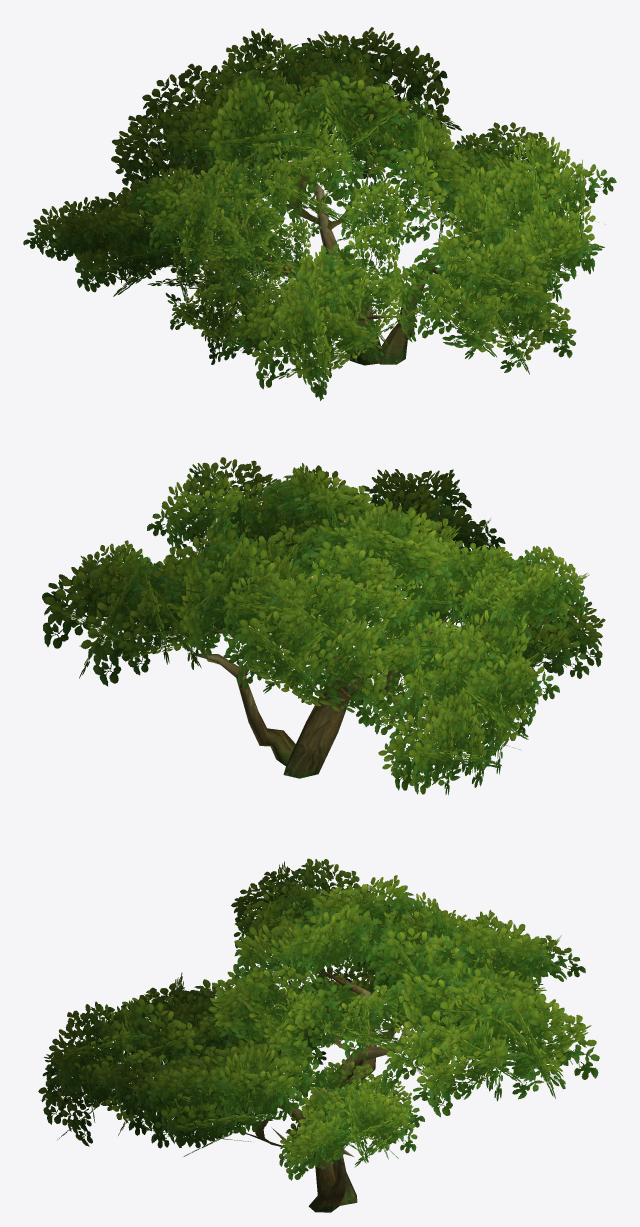
Rendered from chun_shu_001.FBX.
The picture shows the model from 3 angles, top to bottom: view 1: azimuth 30°, elevation 25°; view 2: azimuth 150°, elevation 25°; view 3: azimuth 270°, elevation 25°; orthographic projection. The views are drawn at different scales.
Parts seen in each view (by area): view 1: chun_shu_001_a, chun_shu_001_b, chun_shu_001_c, chun_shu_001_d; view 2: chun_shu_001_a, chun_shu_001_b, chun_shu_001_c, chun_shu_001_d; view 3: chun_shu_001_a, chun_shu_001_b, chun_shu_001_c, chun_shu_001_d.
Boxes of the visible parts, left/top/right/bottom form: chun_shu_001_a: left=23, top=27, right=576, bottom=400; chun_shu_001_b: left=405, top=122, right=616, bottom=301; chun_shu_001_c: left=239, top=161, right=408, bottom=365; chun_shu_001_d: left=379, top=243, right=456, bottom=364; chun_shu_001_a: left=42, top=463, right=605, bottom=795; chun_shu_001_b: left=70, top=457, right=359, bottom=664; chun_shu_001_c: left=281, top=617, right=448, bottom=778; chun_shu_001_d: left=187, top=628, right=295, bottom=765; chun_shu_001_a: left=38, top=858, right=599, bottom=1146; chun_shu_001_b: left=91, top=1039, right=424, bottom=1180; chun_shu_001_c: left=280, top=970, right=441, bottom=1205; chun_shu_001_d: left=271, top=1127, right=353, bottom=1212.
Size of the model in its own units: 1413 by 834 by 1562.
